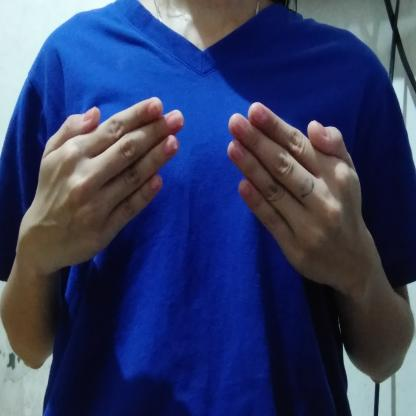night: (21, 99, 371, 295)
